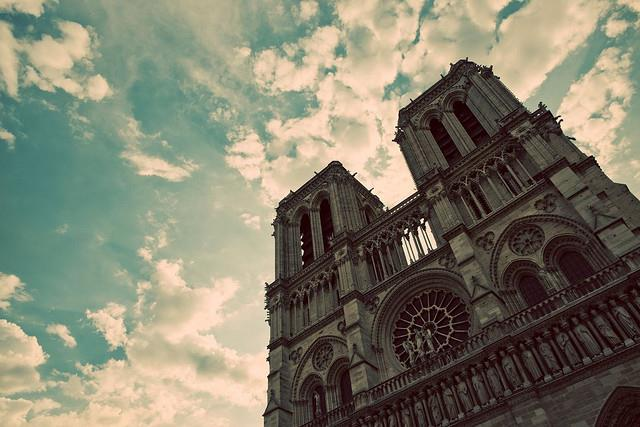Notre_Dame_de_Paris: (260, 38, 638, 425)
